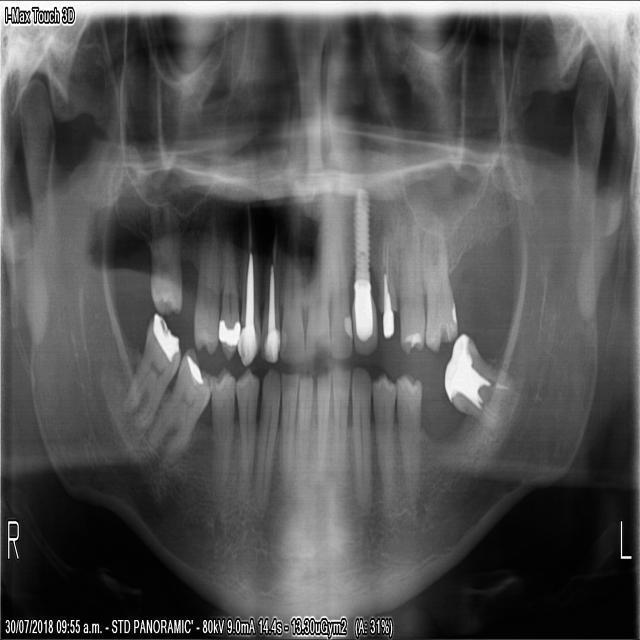LCD: (351, 359, 373, 508)
LCU: (351, 194, 379, 355)
LID: (329, 363, 350, 468), (313, 360, 331, 472)
LIU: (326, 235, 353, 361), (303, 247, 330, 362)
LMD: (440, 325, 496, 425)
LMU: (419, 219, 457, 355)
LPMD: (368, 372, 403, 501), (394, 373, 422, 498)
LPMU: (398, 230, 425, 357), (380, 236, 398, 346)
RCU: (234, 232, 261, 366)
RID: (251, 366, 281, 516), (275, 368, 298, 475), (293, 373, 313, 464)
RIU: (279, 235, 308, 364), (257, 228, 281, 364)
RMD: (150, 339, 214, 465), (121, 307, 183, 425)
RMU: (149, 230, 182, 312)
RPMD: (234, 362, 258, 498), (209, 362, 235, 486)
RPMU: (190, 227, 221, 357), (216, 238, 239, 361)
